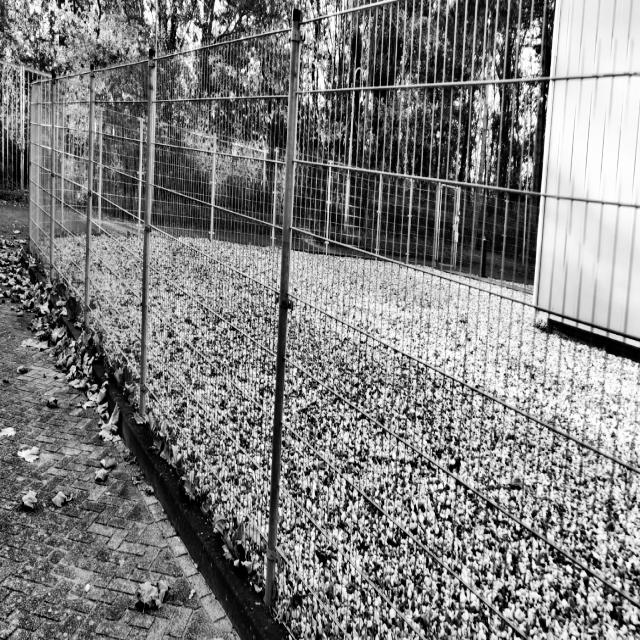fences: (271, 36, 640, 638), (96, 31, 237, 459), (26, 65, 85, 282)
